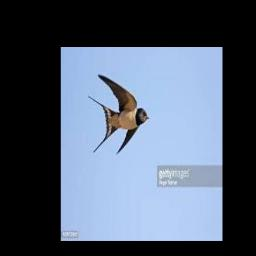Swallow: (88, 73, 149, 154)
